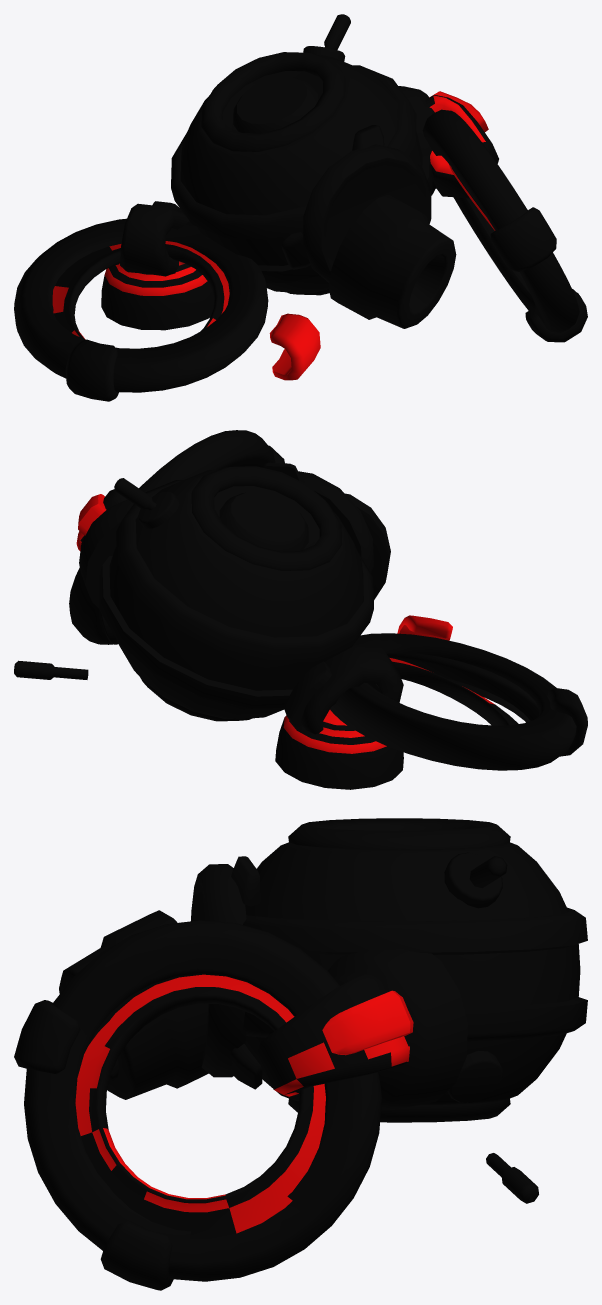
File: Enemy_lvl1_dstr.fbx
3 renders of one model, top to bottom at view 1: azimuth 30°, elevation 25°; view 2: azimuth 150°, elevation 25°; view 3: azimuth 270°, elevation 25°, orthographic. The views are drawn at different scales.
Parts seen in each view (by area): view 1: enemy_lvl1_dstr; view 2: enemy_lvl1_dstr; view 3: enemy_lvl1_dstr.
Boxes of the visible parts, x1,y1,x2,y2 form: enemy_lvl1_dstr: [14, 14, 587, 401]; enemy_lvl1_dstr: [14, 430, 587, 789]; enemy_lvl1_dstr: [14, 818, 587, 1290].
Bounding box in the file's own units: 3.81 × 1.95 × 2.77.
